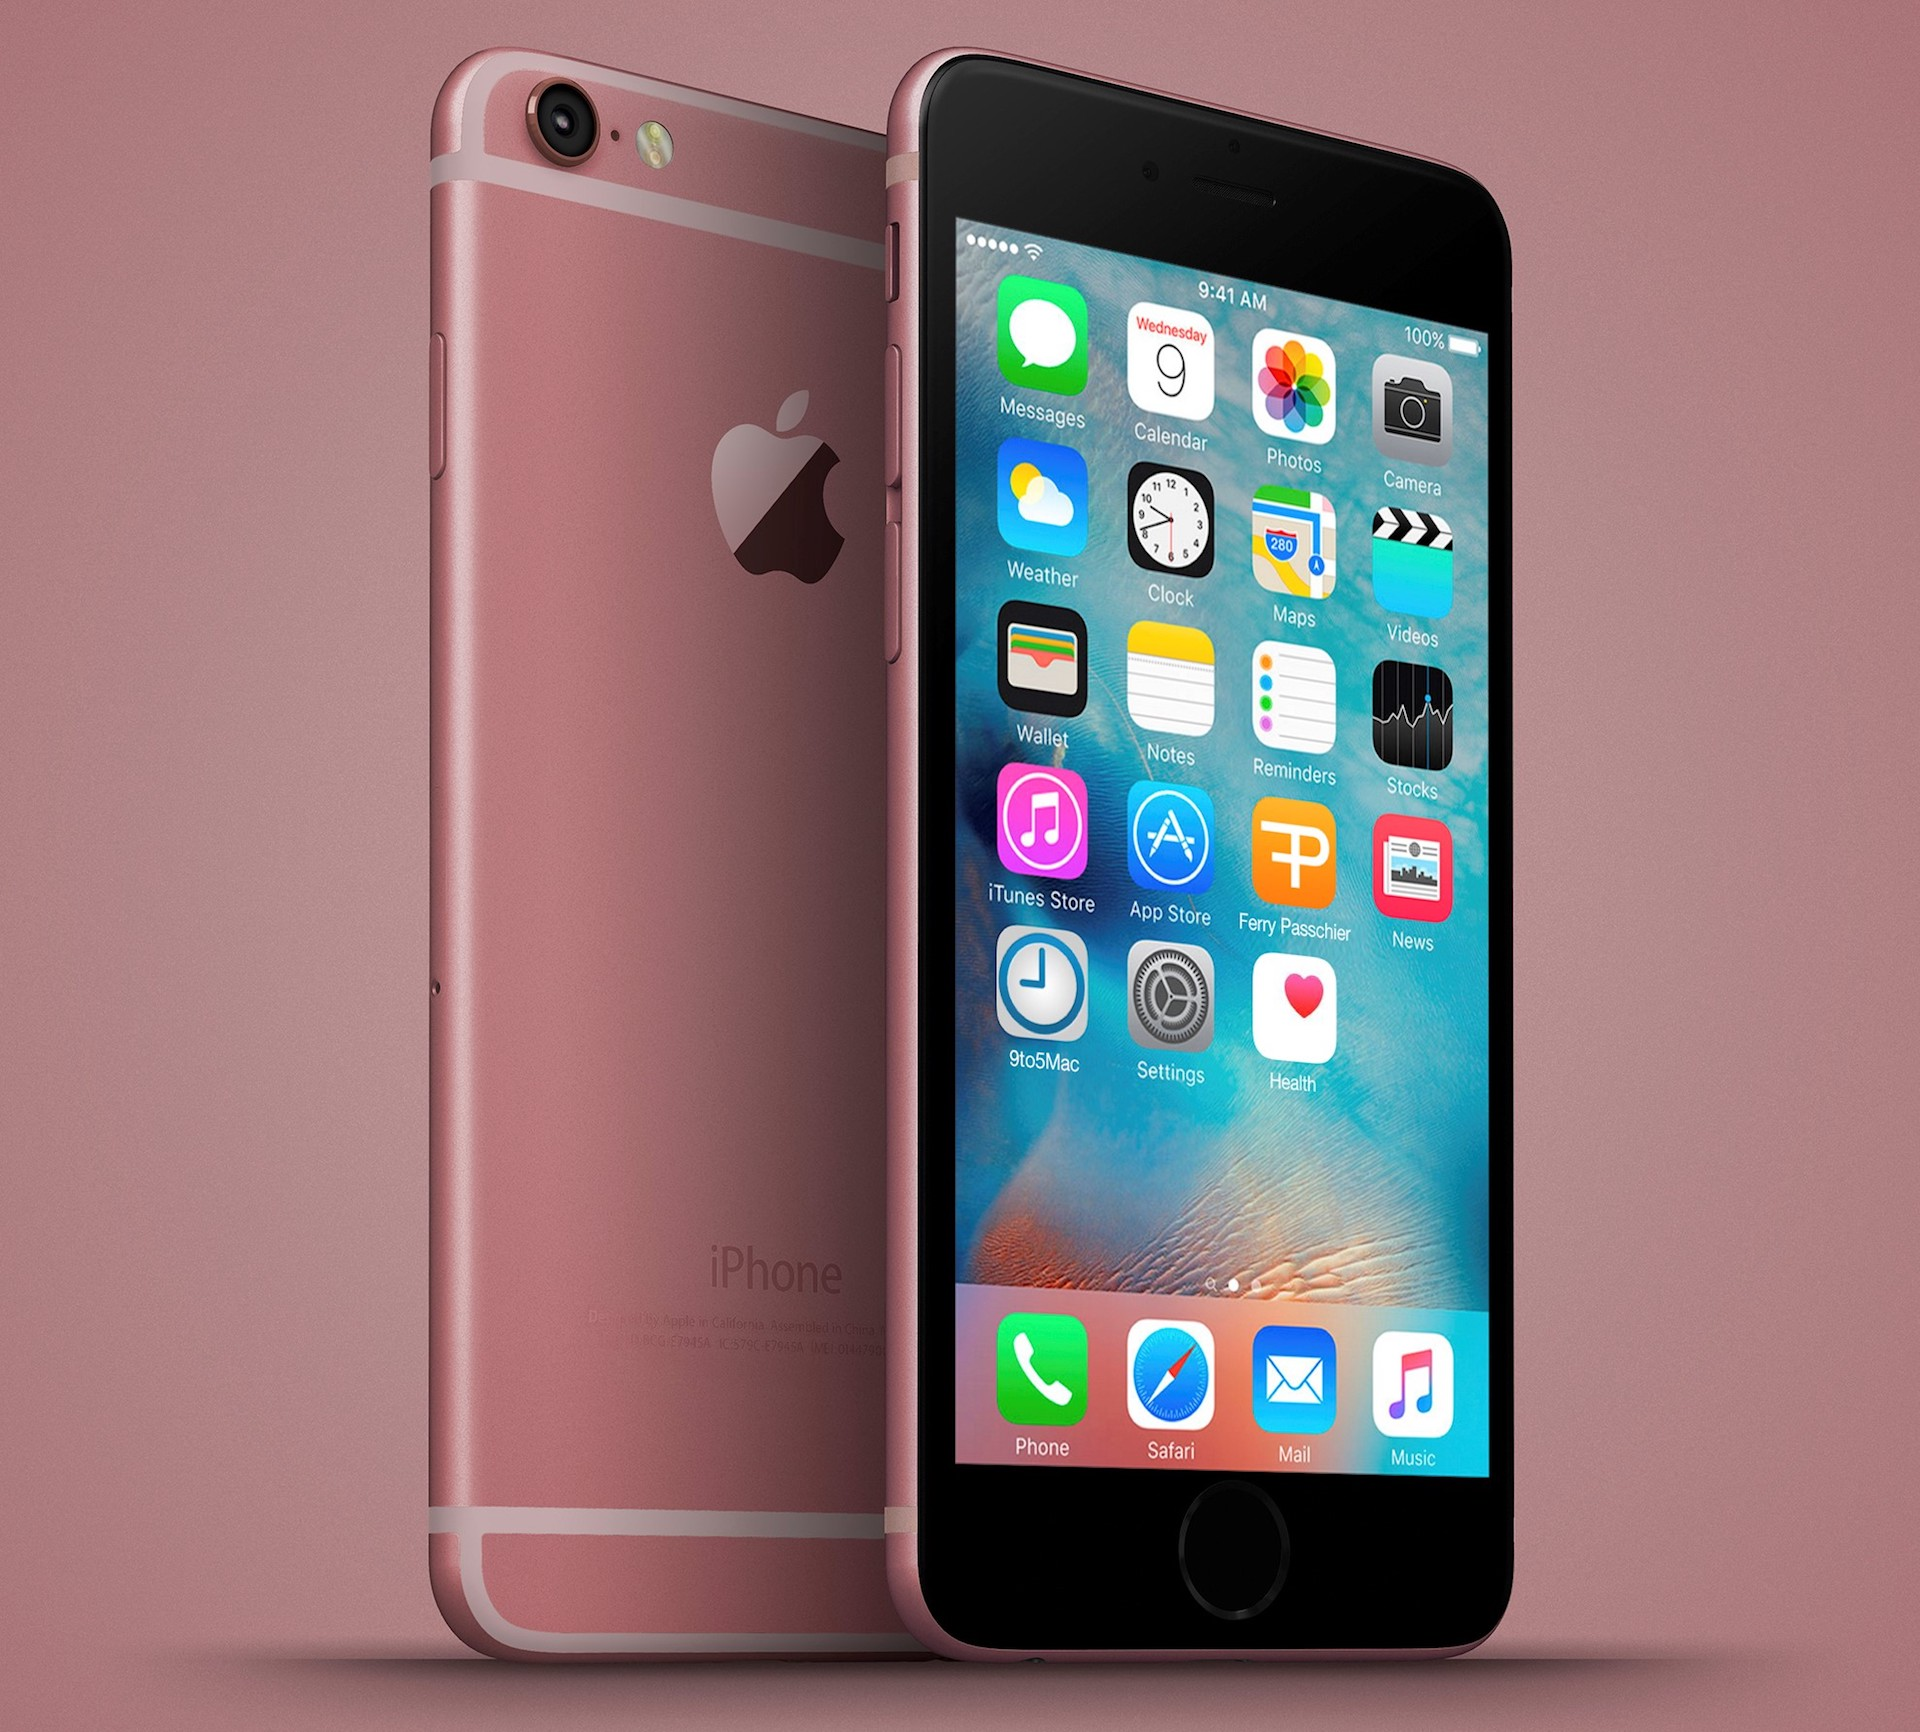smartphone: (872, 43, 1527, 1679), (423, 47, 931, 1660)
